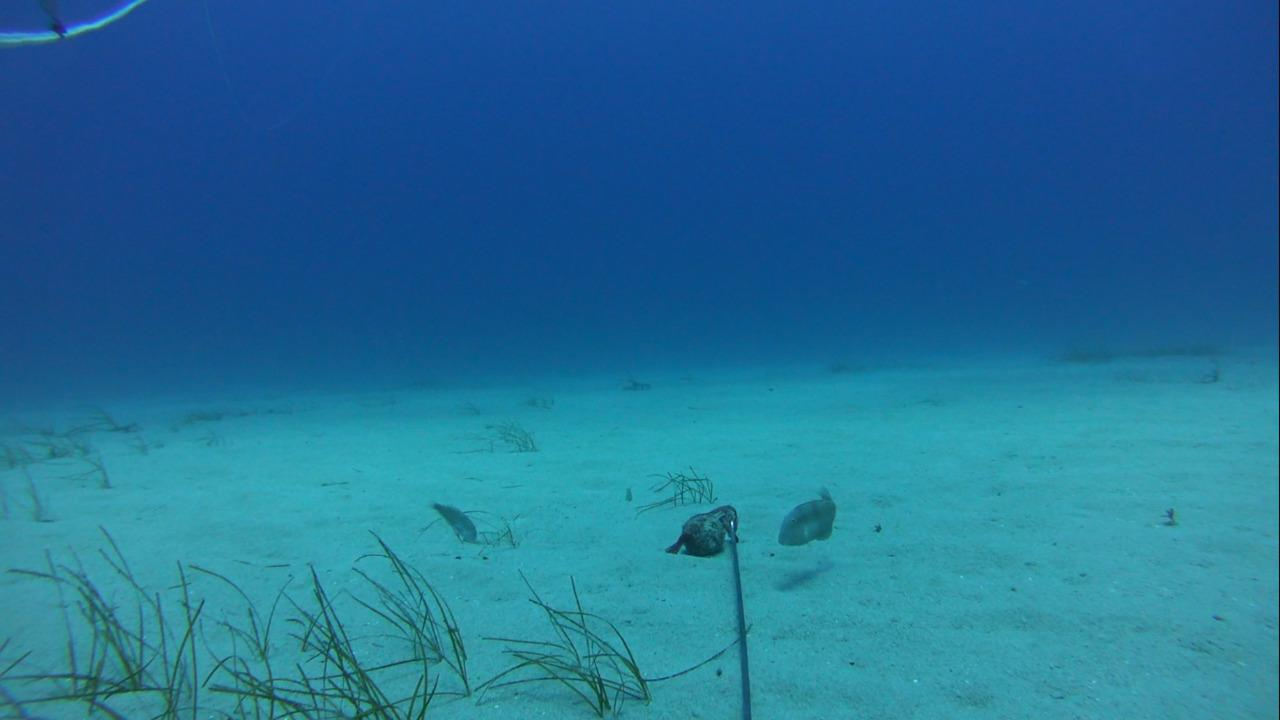raor: (772, 486, 838, 550), (425, 494, 477, 547)
